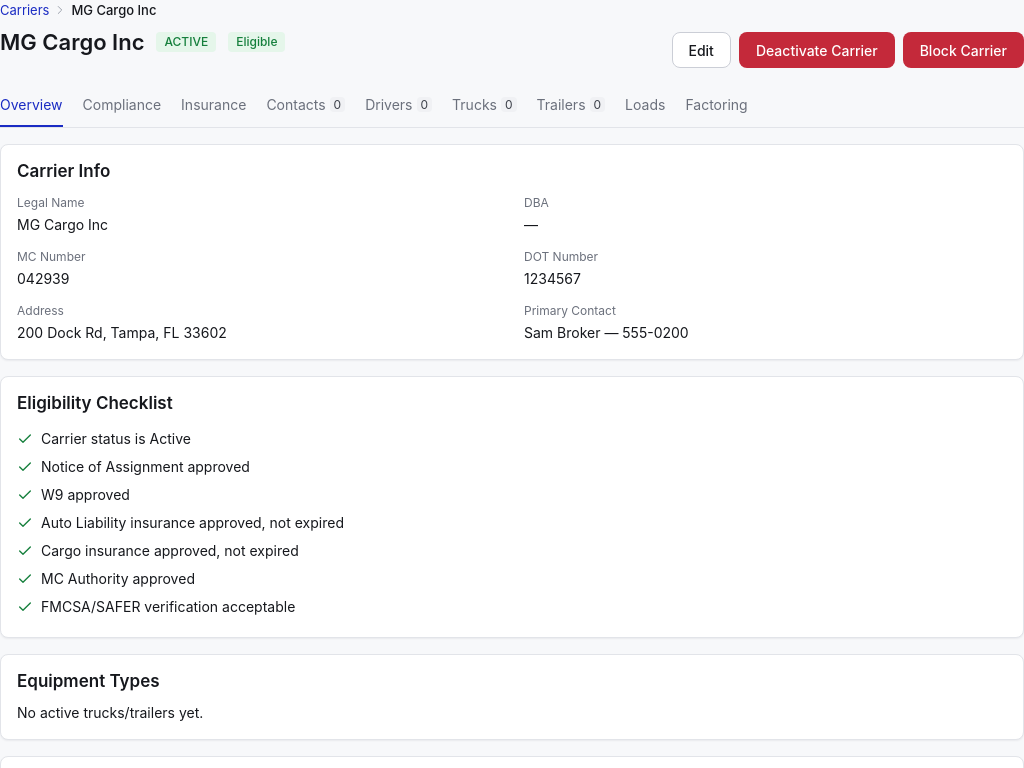
Test: CarrierDetailPage — Edit/Save › shows the API error and keeps the modal open with the edited value on a failed save
The image size is (1024, 768).
Expected: the heading "MG Cargo Inc" is shown, [0, 32, 144, 52]
Click the button "Edit": click(701, 50) [672, 32, 731, 68]
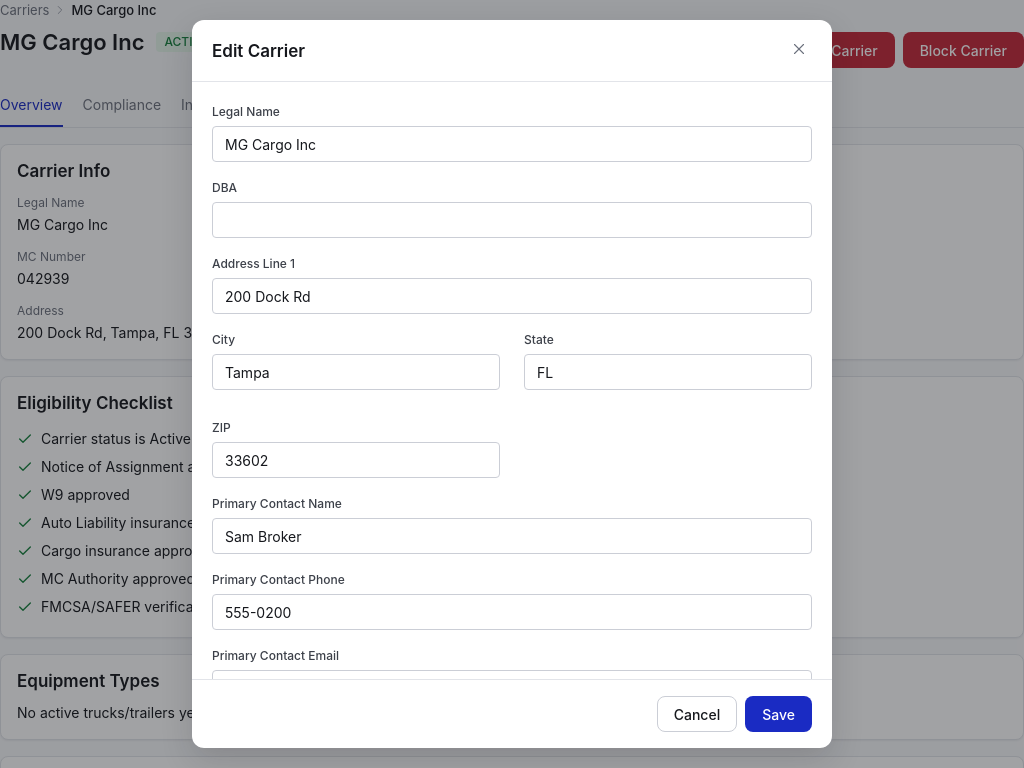
In the field labelled "DBA": (512, 220) [212, 202, 812, 238], type "Broken DBA"
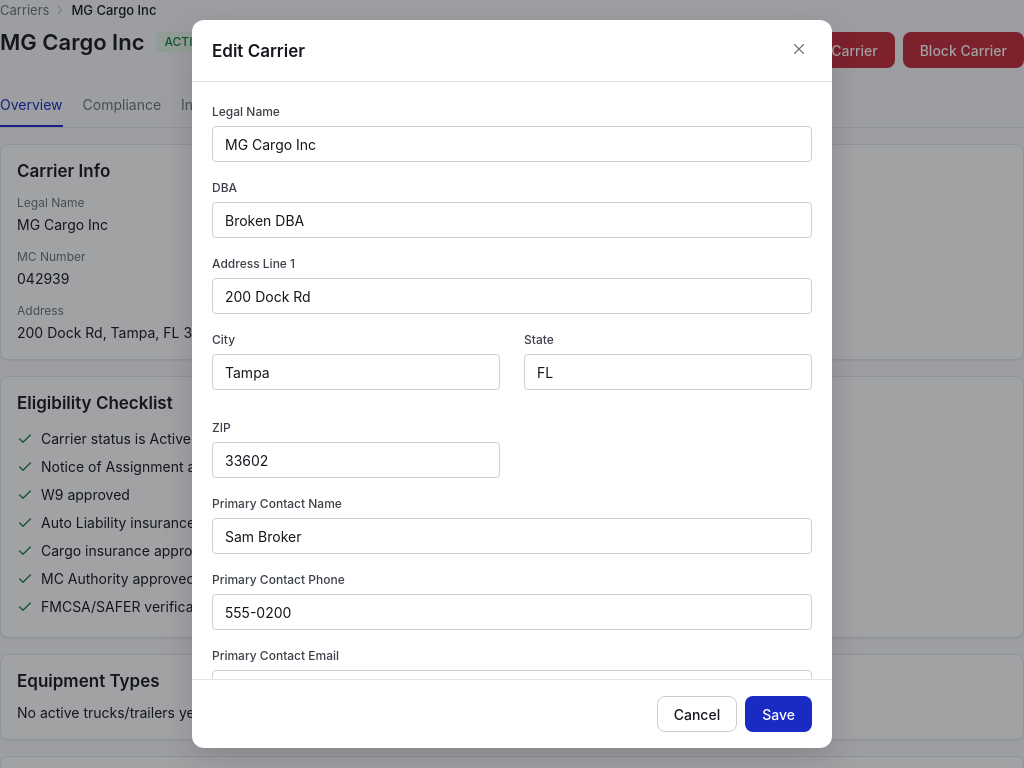
Click the button "Save": click(779, 714) [745, 696, 812, 732]
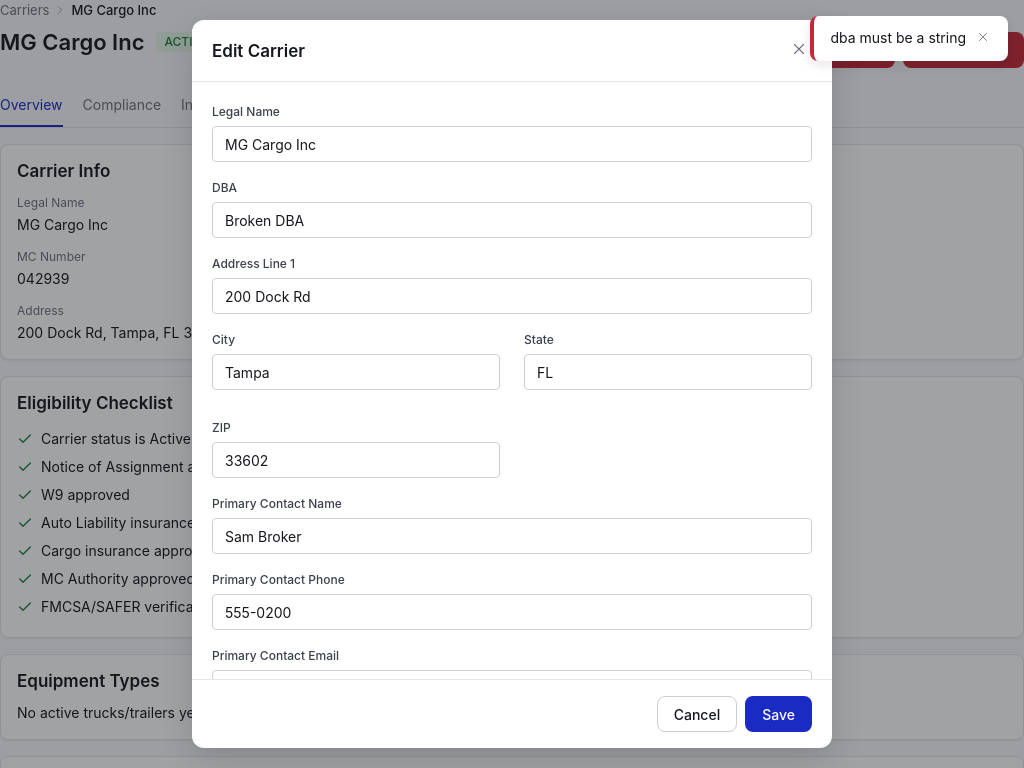
Expected: the text "dba must be a string" is shown, [830, 28, 966, 48]
